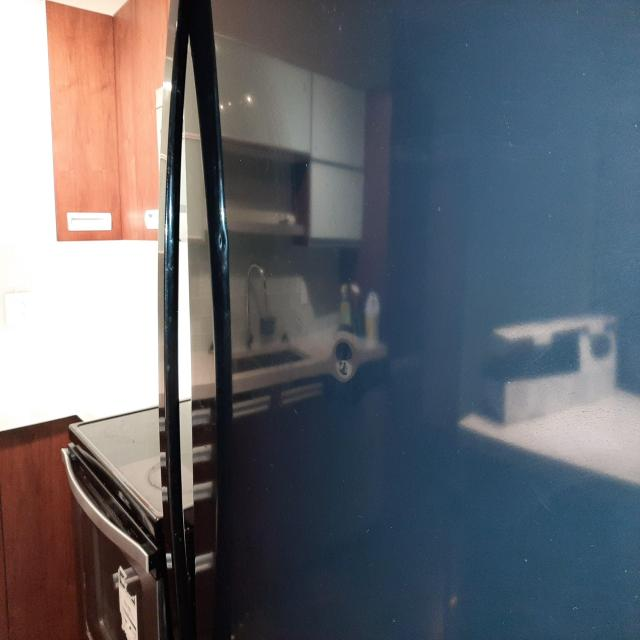dents: (323, 337, 384, 420)
